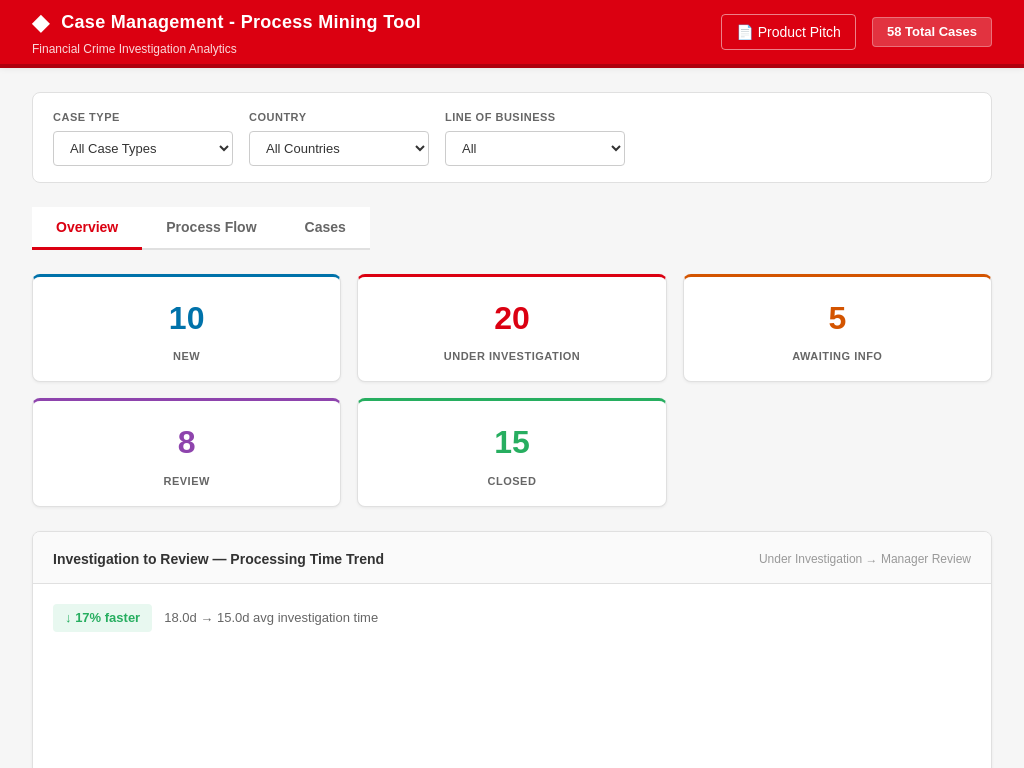
it: App › switches to cases tab
What coordinates should you click on to do the following:
click the button "Cases"
I would click on:
 (325, 228)
Its box is [280, 207, 370, 250].
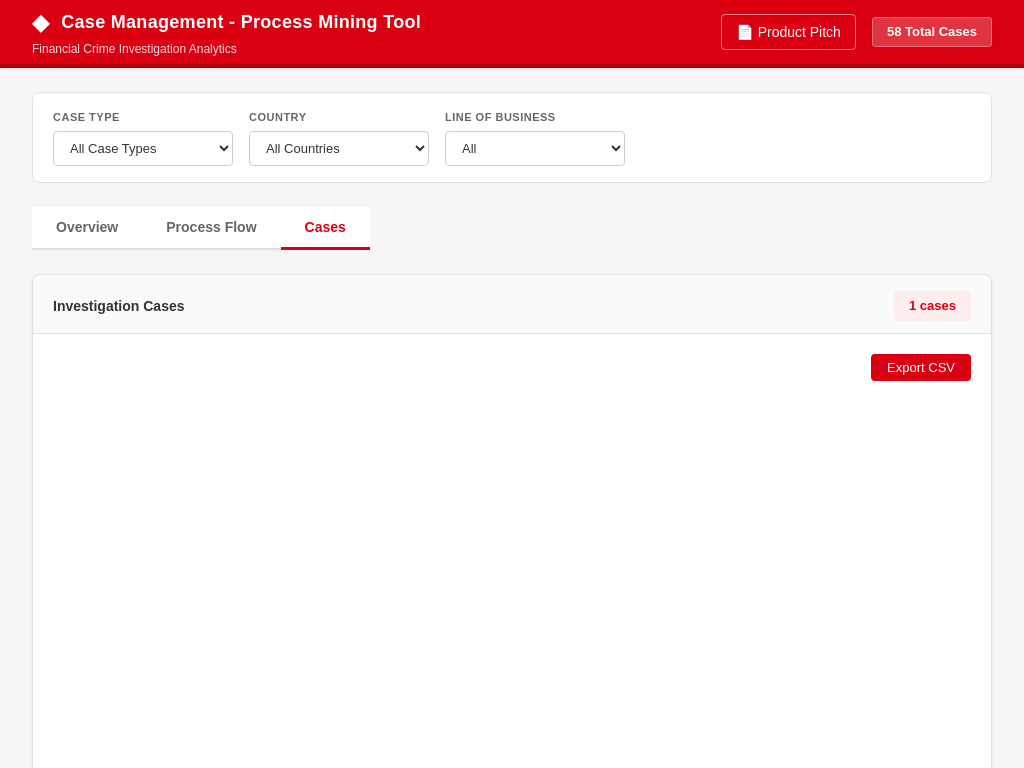
Check: the heading "Investigation Cases" is shown, box [53, 295, 184, 317]
